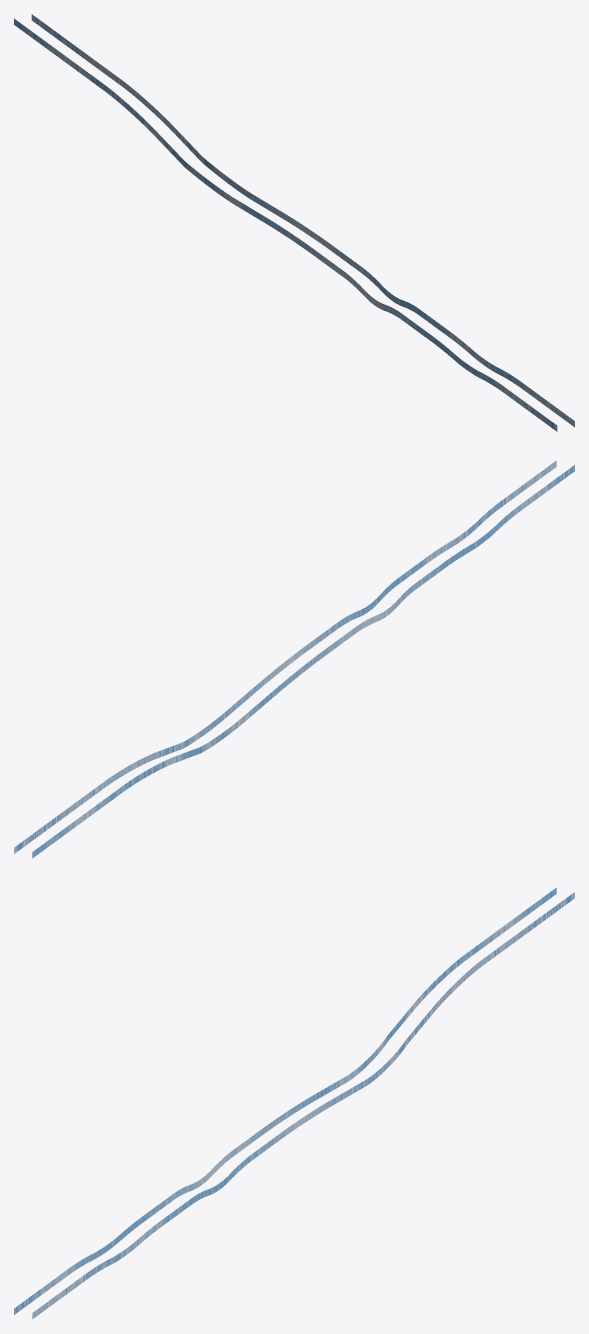
Rendered from snow track 1 sidewalls.fbx.
3 renders of one model, top to bottom at view 1: azimuth 30°, elevation 25°; view 2: azimuth 150°, elevation 25°; view 3: azimuth 330°, elevation 25°, orthographic. The views are drawn at different scales.
Visible parts, largest first — view 1: way.001, way.002; view 2: way.002, way.001; view 3: way.002, way.001.
Boxes of the visible parts, x1,y1,x2,y2 form: way.001: (31, 14, 574, 427); way.002: (14, 18, 557, 431); way.002: (32, 465, 574, 858); way.001: (14, 460, 556, 853); way.002: (14, 887, 556, 1314); way.001: (32, 892, 574, 1319).
Bounding box in the file's own units: 406 × 502 × 14688.
Materials: 1 (1 with a texture image).
